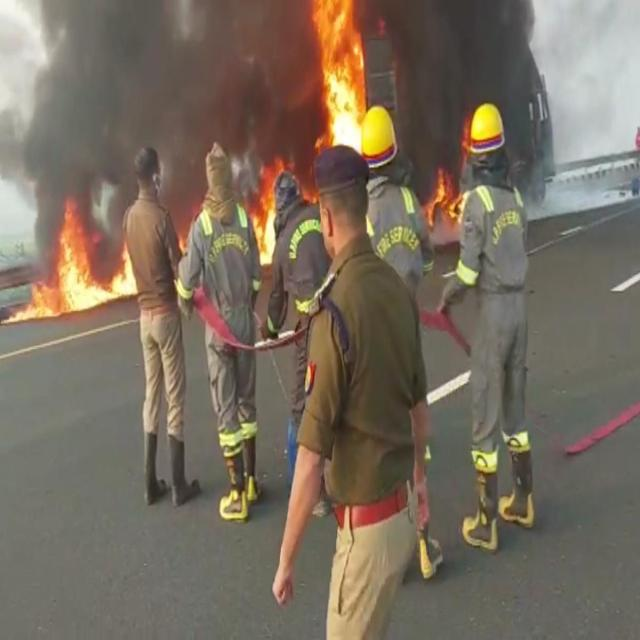accident: (312, 0, 555, 216)
